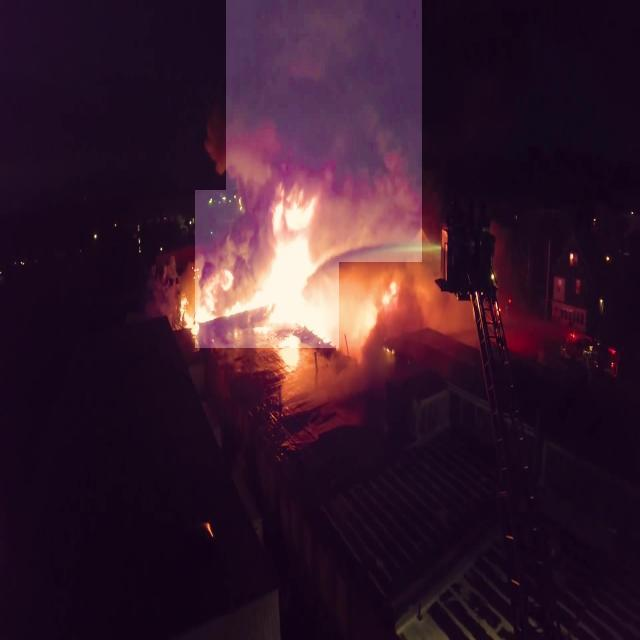Fire: (195, 190, 339, 348)
Smoke: (226, 0, 422, 262)
